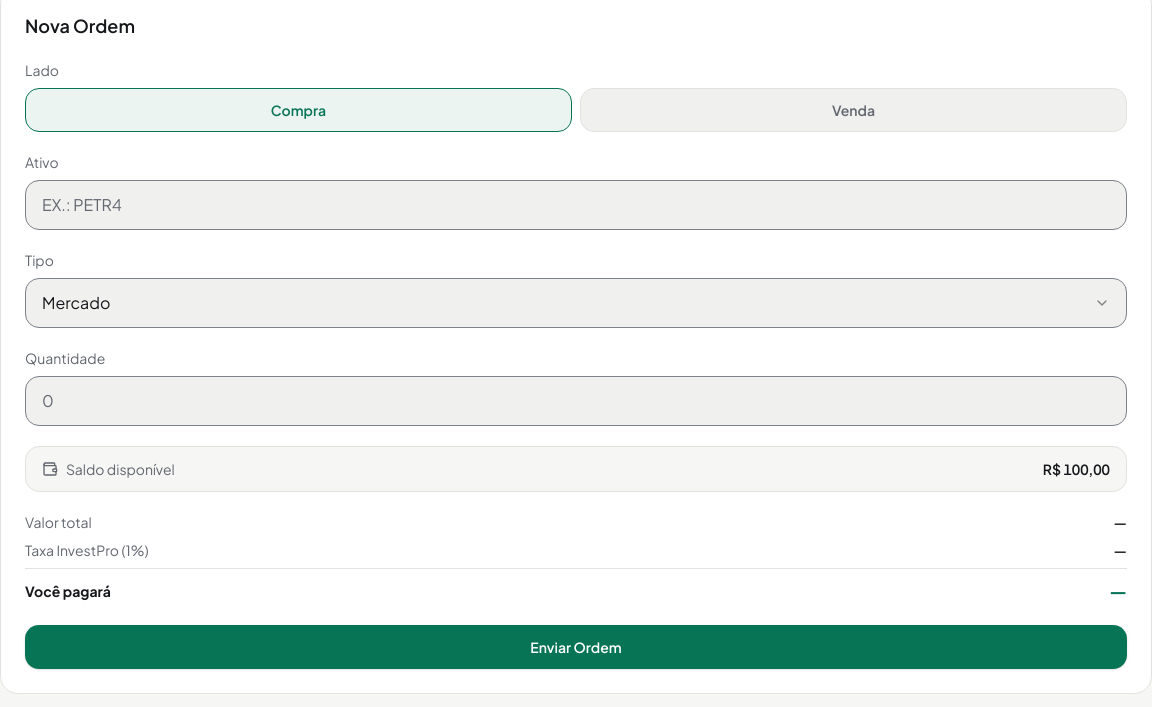
Scenario: NewOrderForm › saldo verificado antes de enviar (compra) › 'Adicionar saldo grátis' abre o depósito com o valor que falta
In the dropdown with placeholder "ex.: PETR4": (576, 205) top-left (25, 180), bottom-right (1127, 230), type "PETR4"
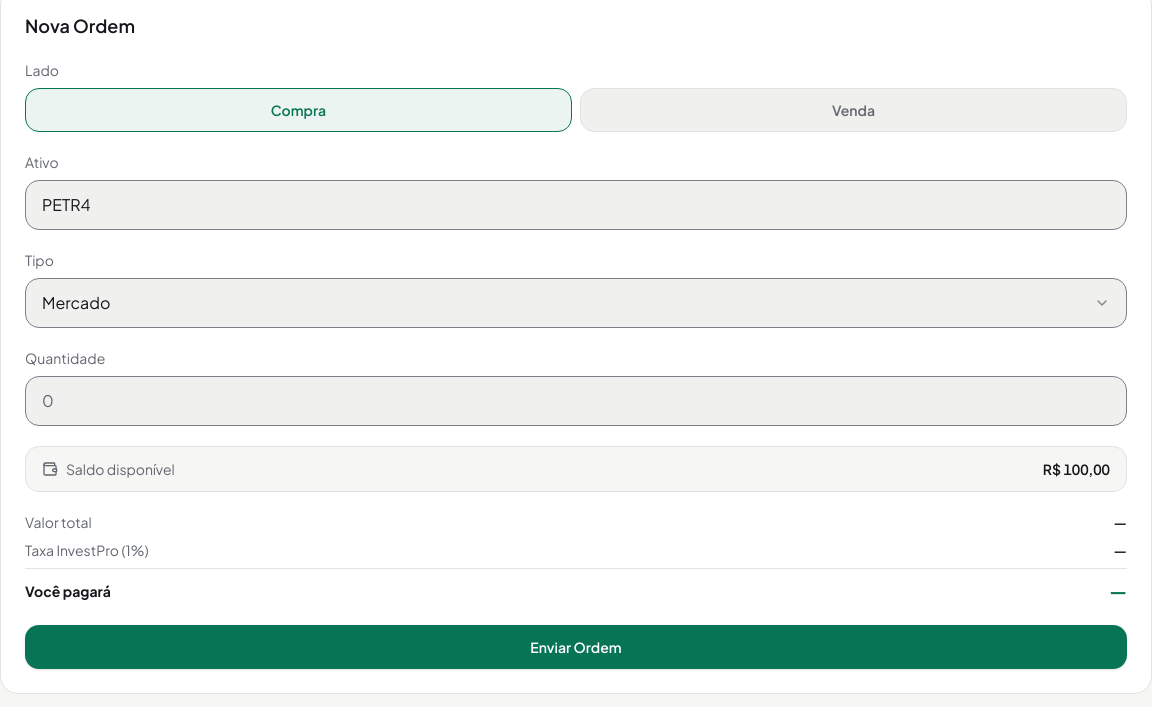
In the field labelled "Quantidade": (576, 401) top-left (25, 376), bottom-right (1127, 426), type "10"
(page scrolled)
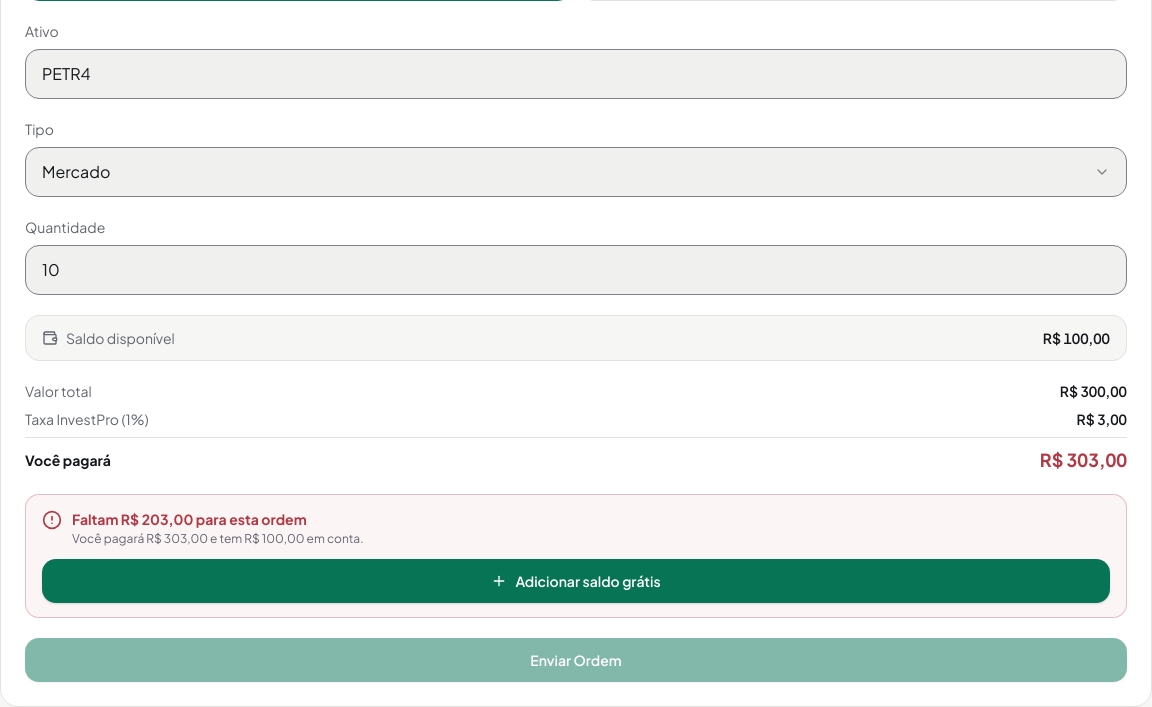
Click the button "Adicionar saldo grátis": (576, 581) top-left (42, 559), bottom-right (1110, 603)
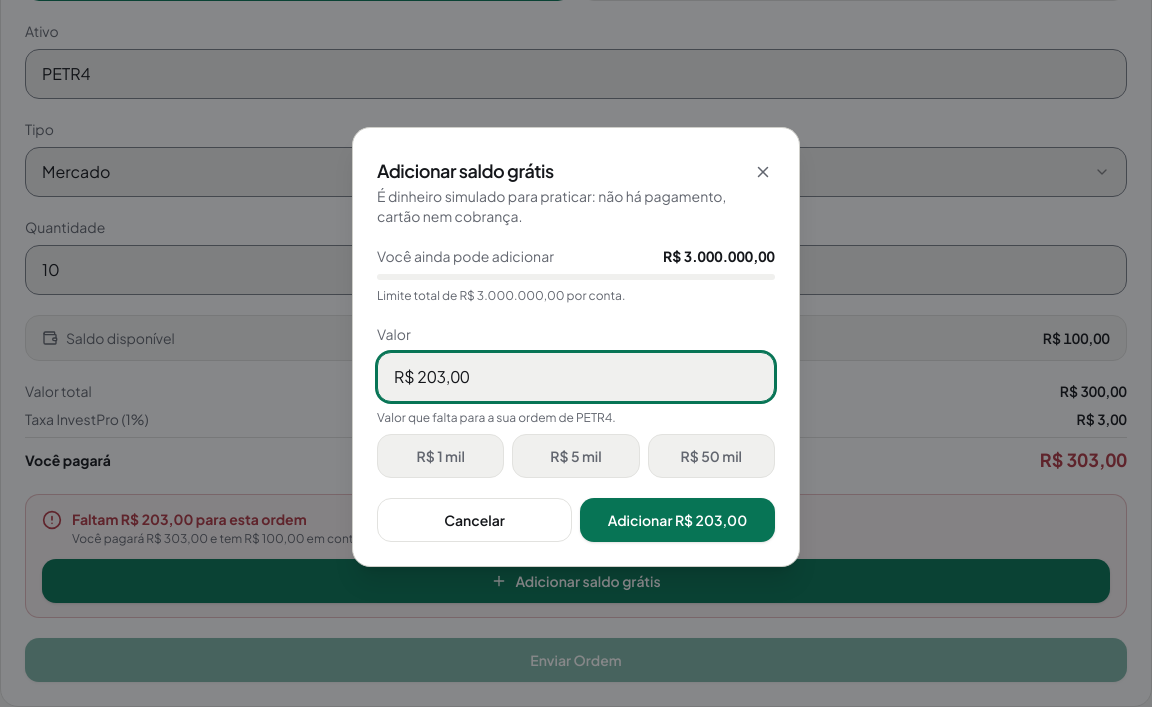
Now the dialog "Adicionar saldo grátis" shows "Valor que falta para a sua ordem de PETR4.", box top-left (377, 410), bottom-right (616, 425)
